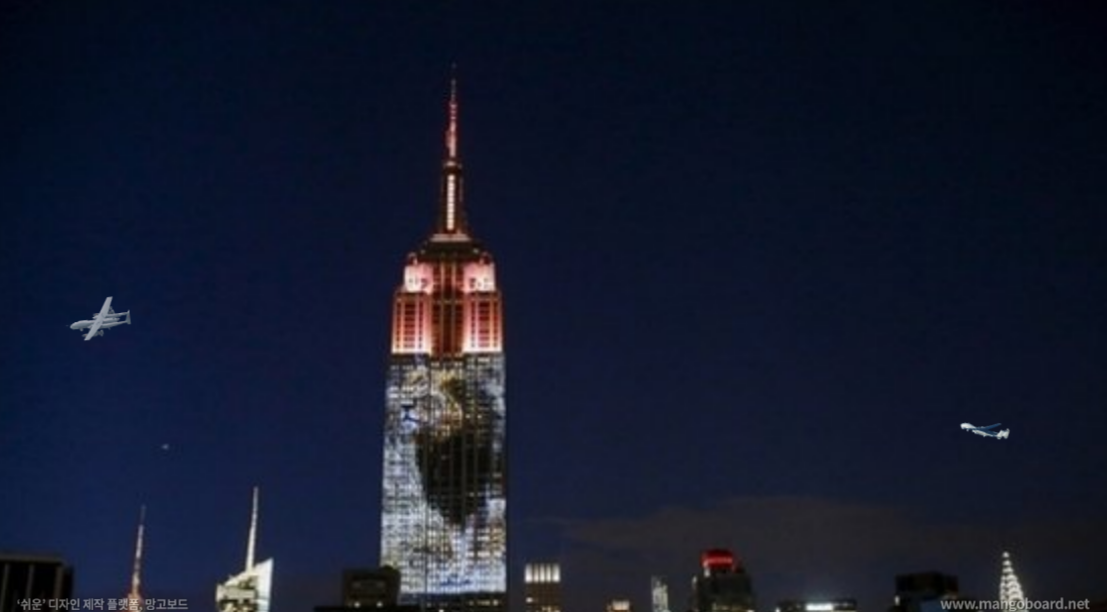military drone: (64, 296, 132, 340), (960, 421, 1010, 440)
